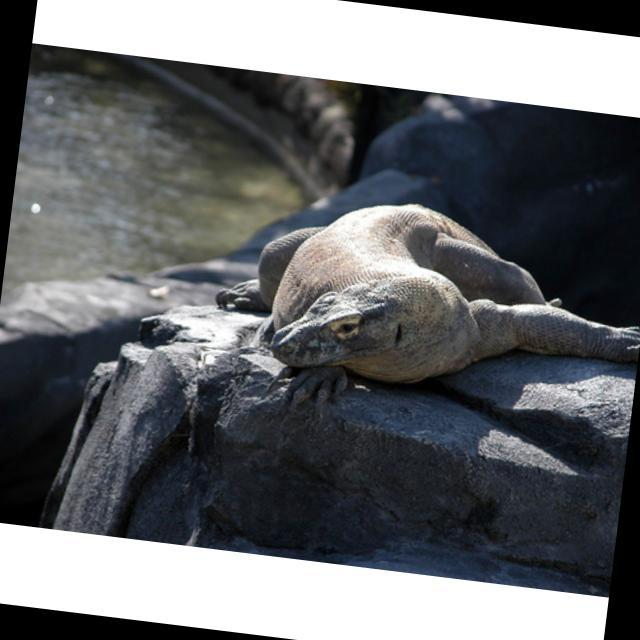KomodoDragon: (201, 178, 640, 415)
